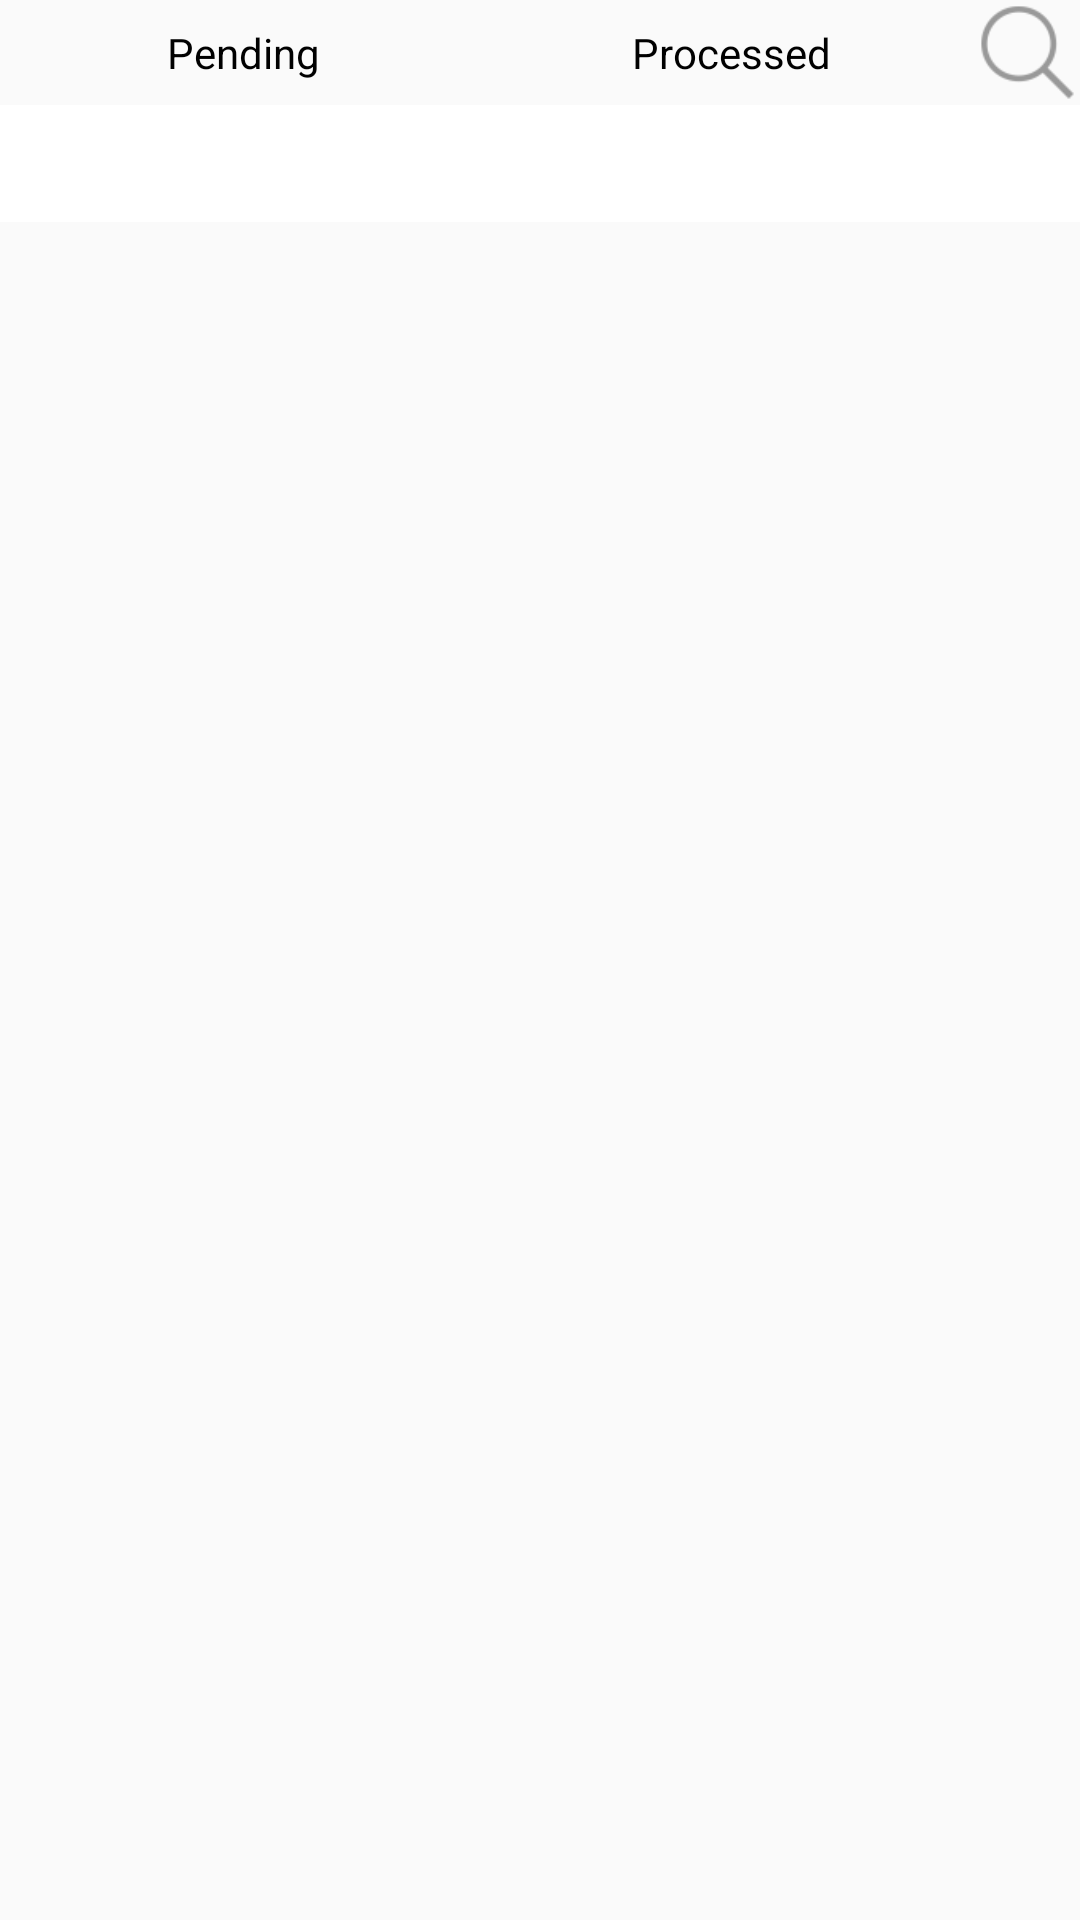

Icons on this 1080 × 1920 Android screen, each with its box as [x1=x1, y1=y1, x2=x2, y2=y2]:
search: [x1=981, y1=6, x2=1074, y2=99]
